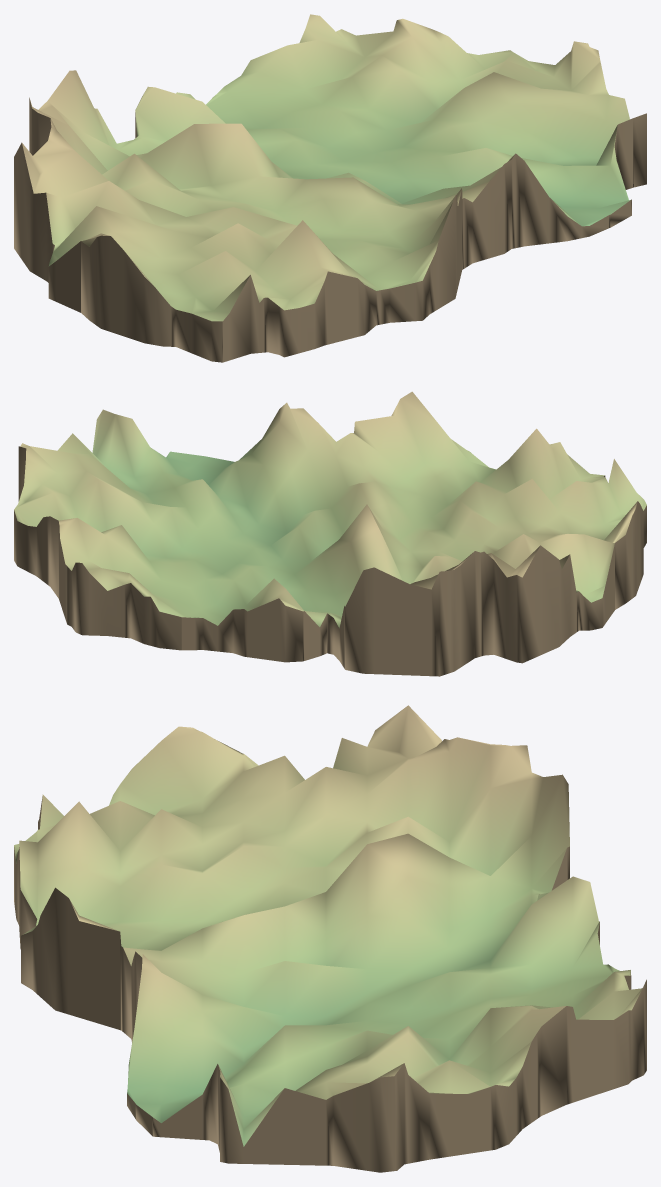
File: MKD.glb
3 views of the same model, one above another, from view 1: azimuth 30°, elevation 25°; view 2: azimuth 150°, elevation 25°; view 3: azimuth 270°, elevation 25° (orthographic). The views are drawn at different scales.
Parts seen in each view (by area): view 1: MKD; view 2: MKD; view 3: MKD.
Part boxes in pixels (x1,y1,x2,y2): MKD: (14, 14, 646, 362); MKD: (14, 391, 646, 676); MKD: (14, 705, 646, 1172).
Size of the model in its own units: 1.76 by 0.338 by 1.39.
